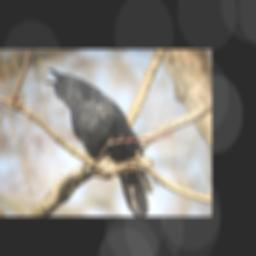Crow: (42, 65, 155, 216)
